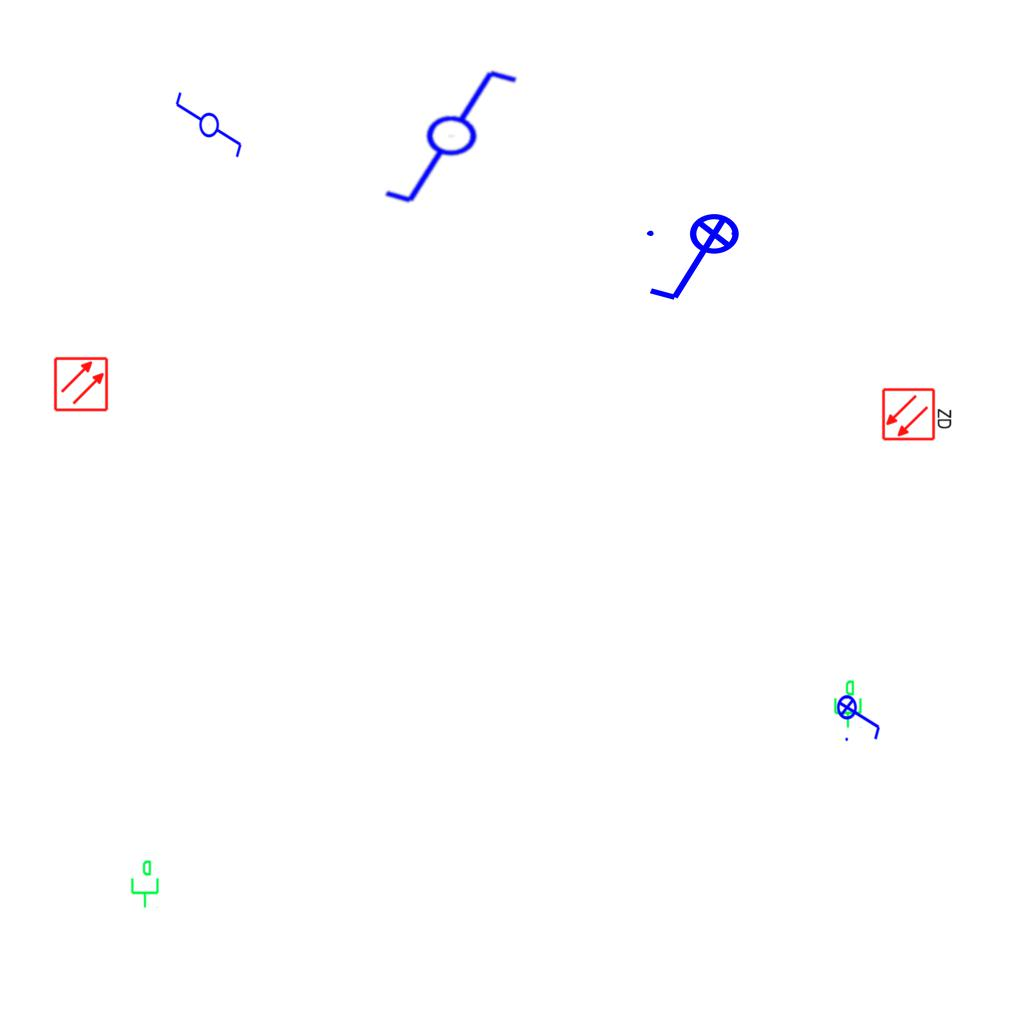Ausschalter_beleuchtet: (641, 212, 753, 308), (836, 688, 884, 744)
Datenanschluss_einfach: (830, 679, 864, 729), (127, 859, 161, 909)
RMO_Rauchmelder_optischer: (53, 356, 109, 412)
Wechselschalter: (381, 66, 538, 210), (172, 90, 244, 168)
ZD_Melder_in_Zwischendecke_mit_Revisionsoeffnung_mind_40_x_40_cm: (881, 385, 955, 442)
